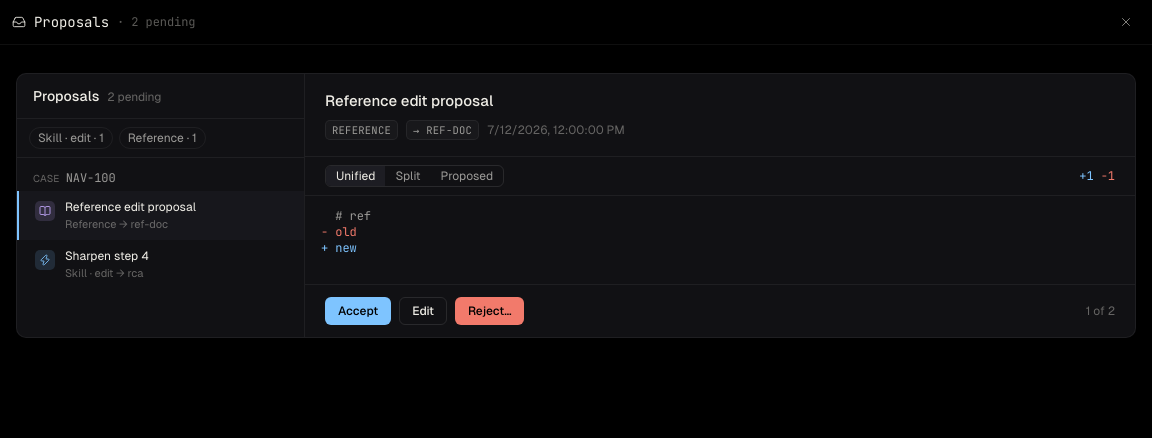
ProposalsStandalone › rejecting the last pending row falls back to a session-accepted row via the entries[0] fallback
The image size is (1152, 438).
Click the button with aria-label "Select proposal Sharpen step 4" at (107, 256), box [17,240,304,290]
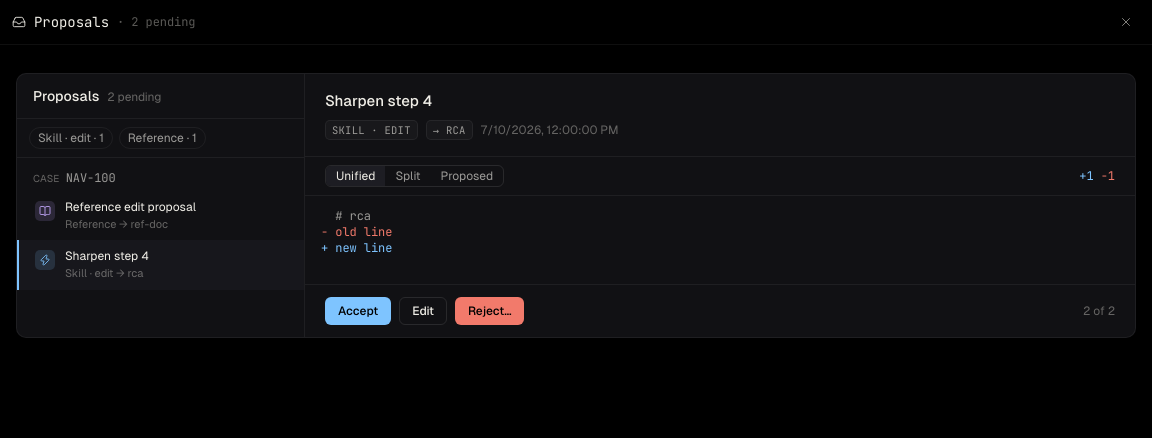
Click the button with aria-label "Accept Sharpen step 4" at (358, 311), box [325,297,391,325]
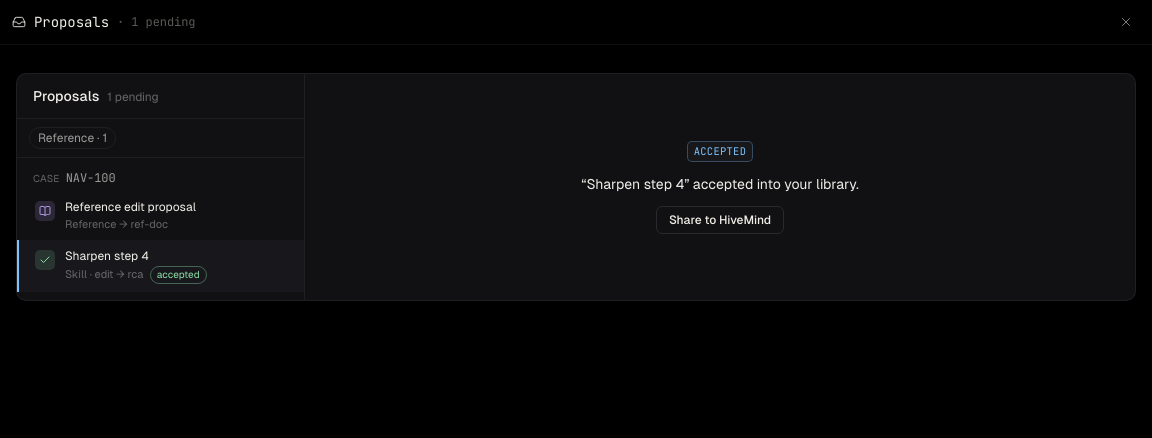
Expected: the text "“Sharpen step 4” accepted into your library." is shown, [581,174,859,194]
Click the button with aria-label "Select proposal Reference edit proposal" at (160, 215), box [17,190,304,240]
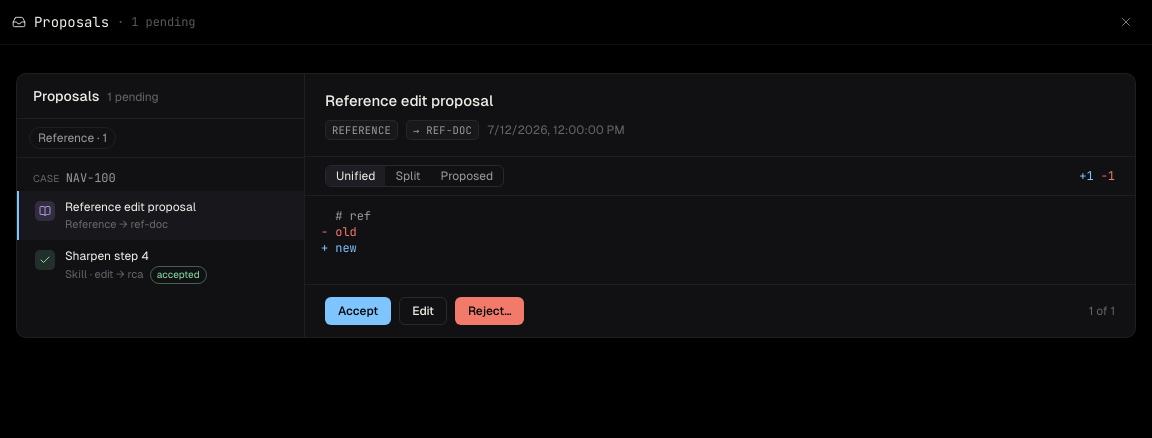
Click the button with aria-label "Reject Reference edit proposal" at (490, 311), box [455,297,524,325]
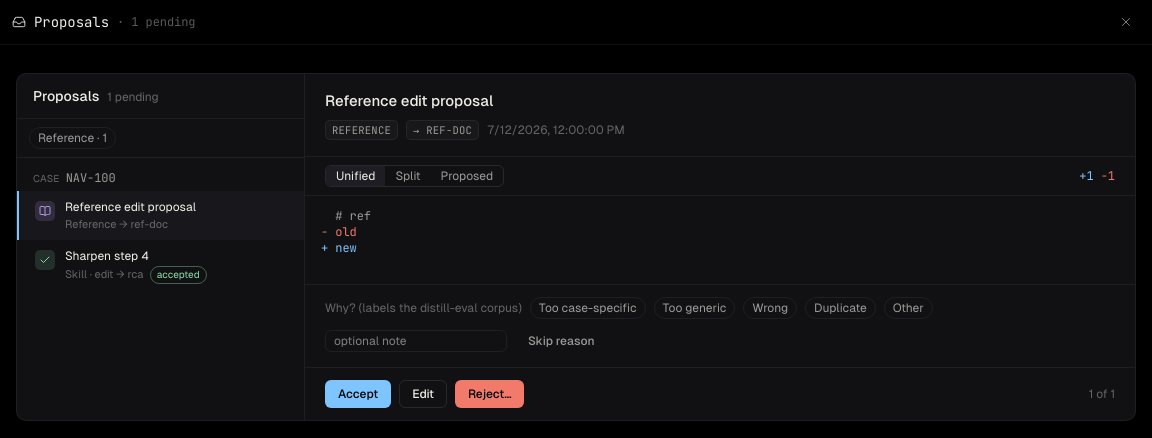
Click the button with aria-label "Reject without a reason" at (561, 341), box [515,327,608,355]
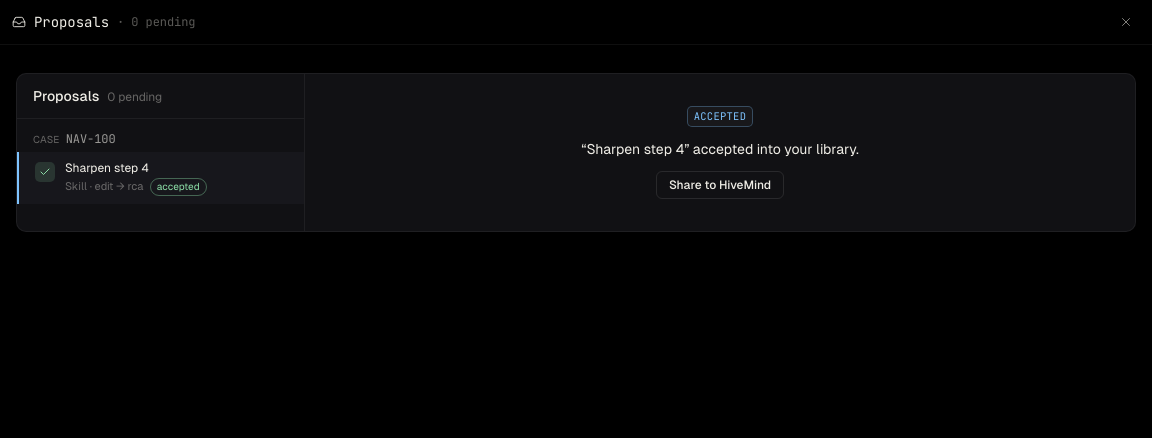
Expected: the text "“Sharpen step 4” accepted into your library." is shown, [581,139,859,159]
